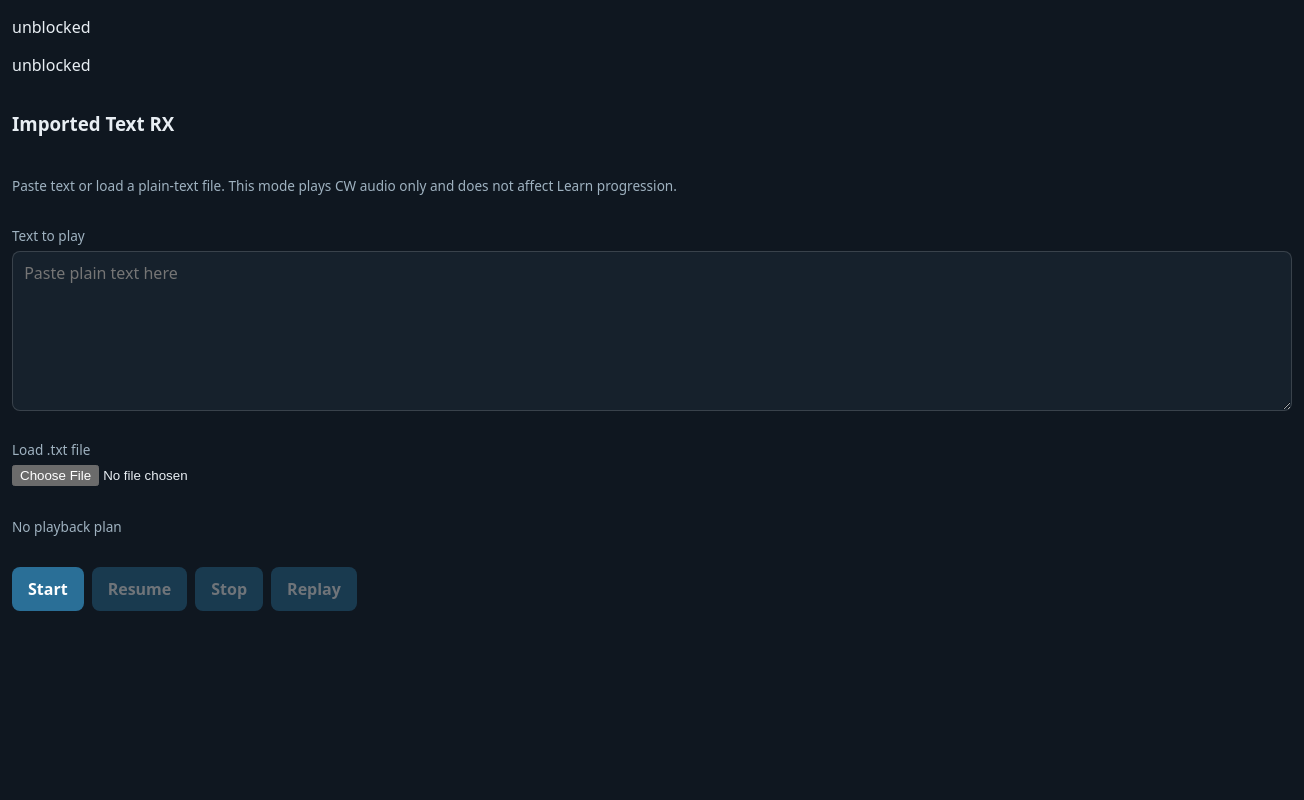
Test case: ImportedTextPractice › unmount during playback cancels audio and stops noise
This screenshot has width=1304, height=800.
Type "A B" into the text box named "Imported text" at [652, 331], box x1=12 y1=251 x2=1292 y2=411
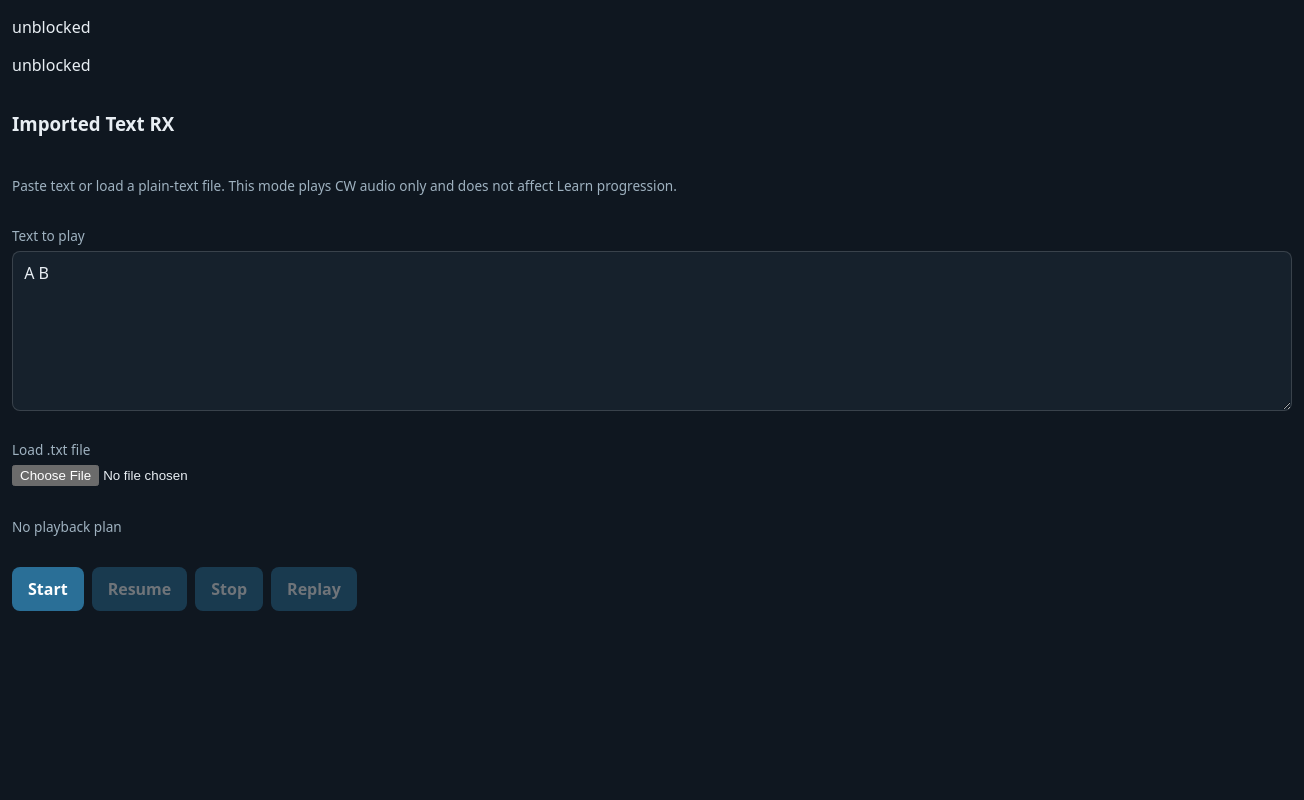
Click the button "Start" at [48, 589], box x1=12 y1=567 x2=84 y2=611
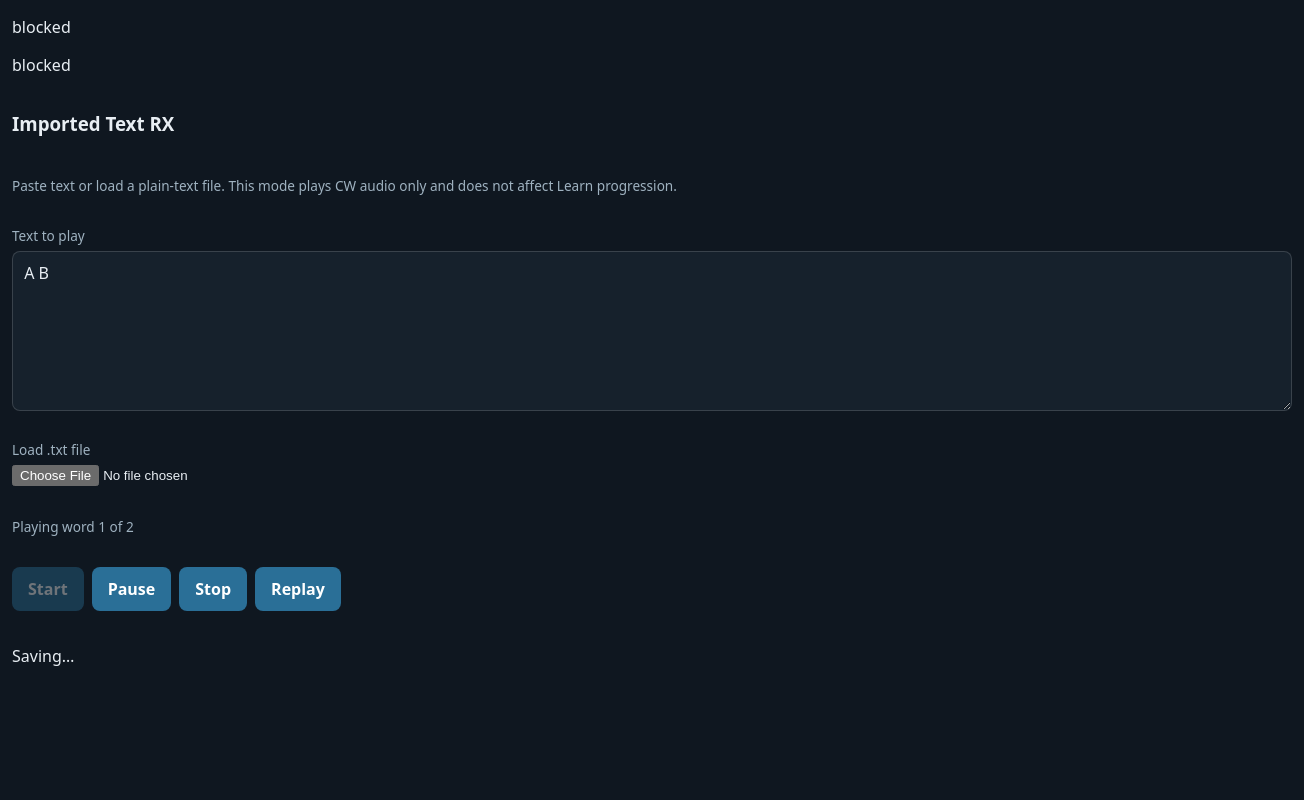
Expected: the text named "Guard state" reads "blocked", x1=12 y1=16 x2=71 y2=38
